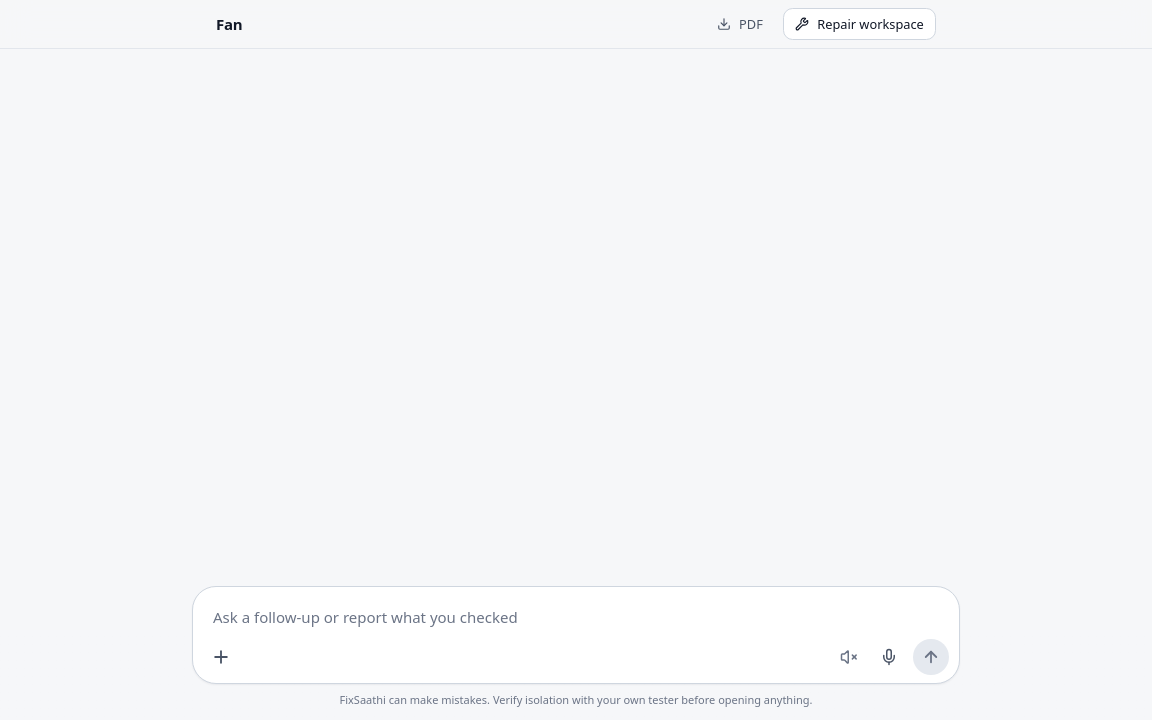
Test: text vs voice replies › a voice message gets text only when the speaker is off
The image size is (1152, 720).
Later steps or results of the test are not shown.
Expected: the button named "Speaker off" is shown, [831, 638, 867, 674]
Click the button named "Start speaking" at x=889, y=656, box [871, 638, 907, 674]
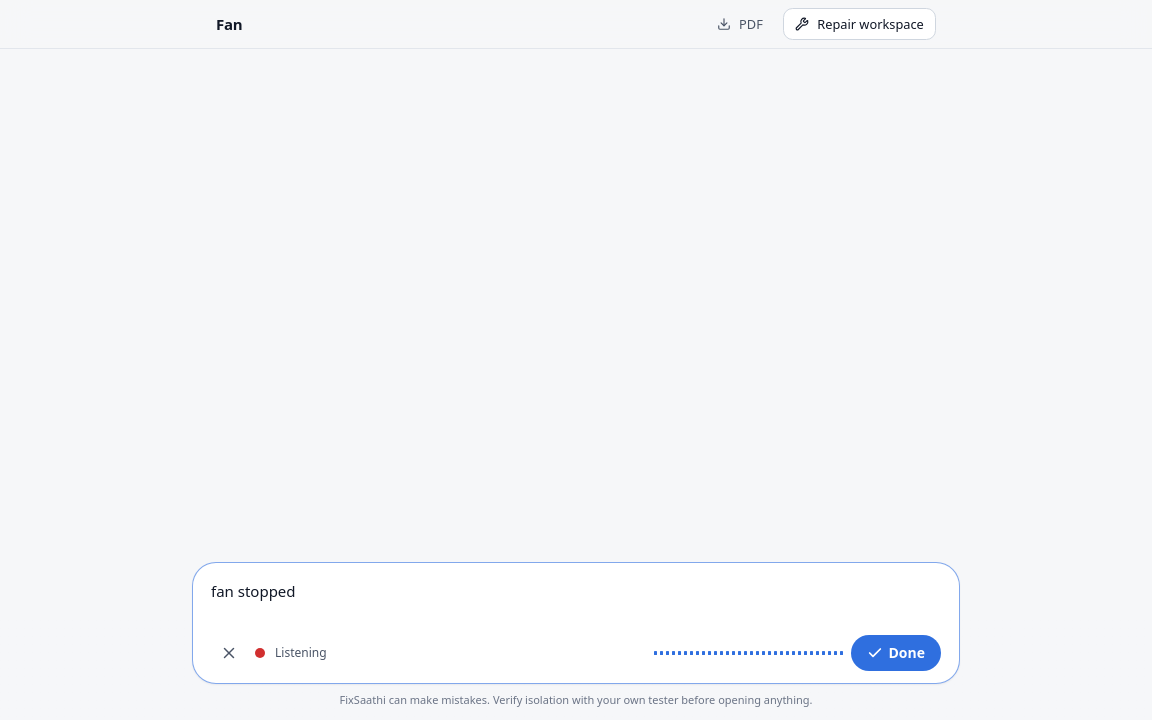
Now the button "Done" is shown, box [850, 634, 941, 670]
